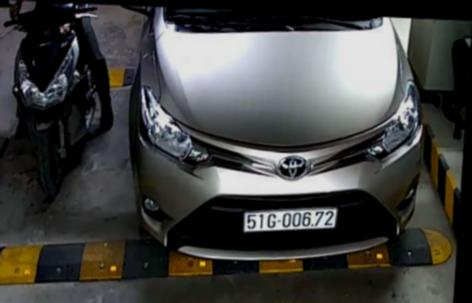License_Plate: (236, 200, 345, 240)
